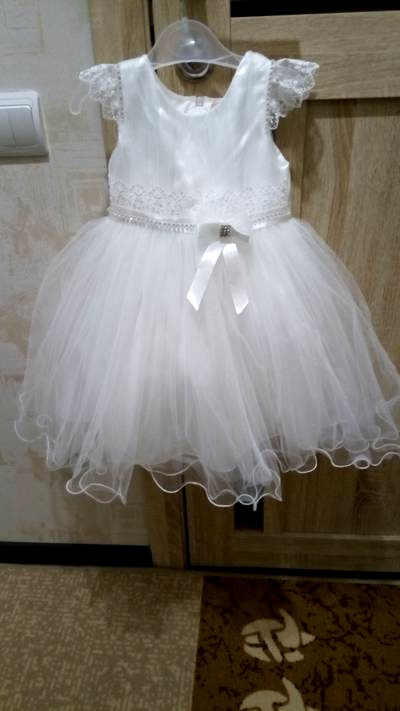Dress: (14, 27, 399, 516)
